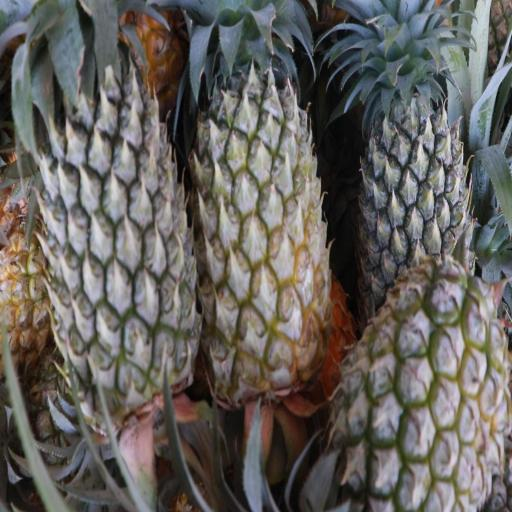------------------------------: (192, 30, 325, 396), (338, 264, 508, 508)
Pineapple - v8 v1: (0, 223, 55, 360)
